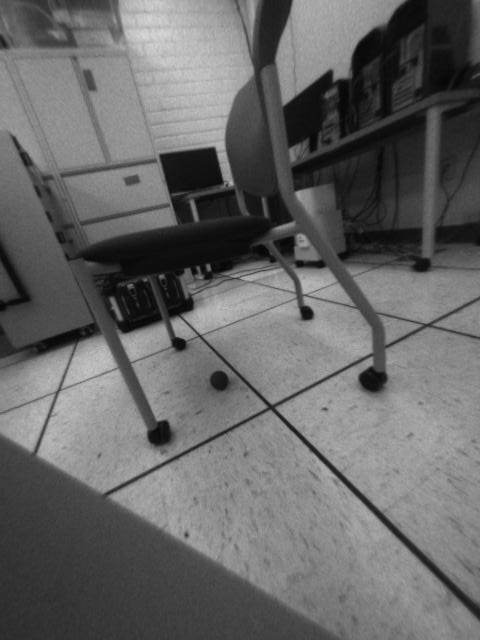dogtoy: (206, 366, 238, 395)
